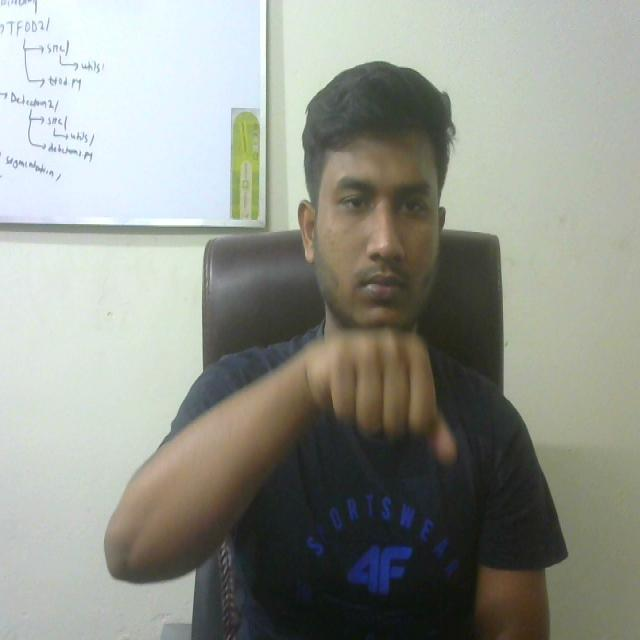Yes: (294, 311, 469, 480)
